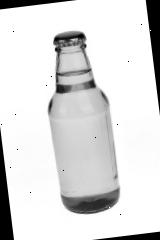glass: (40, 27, 124, 218)
